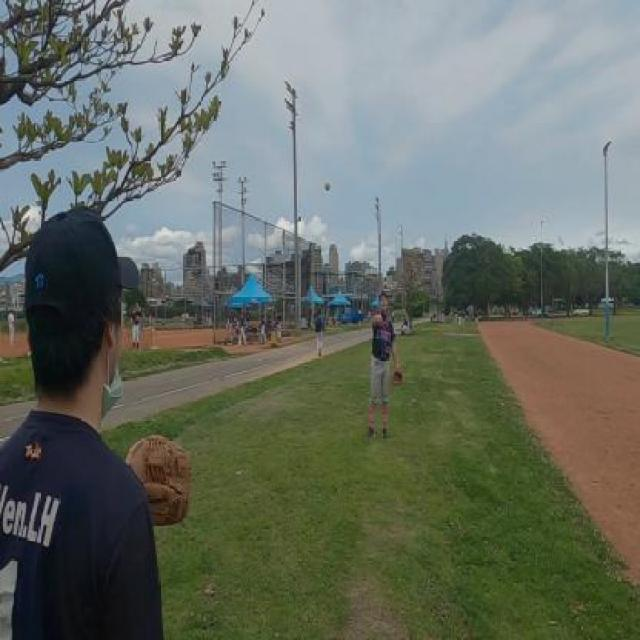baseball: (325, 180, 330, 192)
